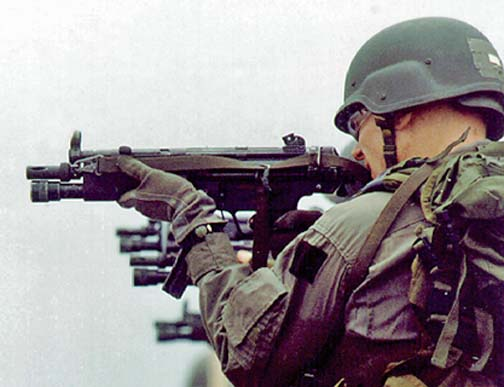rifle: (43, 123, 300, 187)
rifle in hand: (25, 104, 325, 333)
